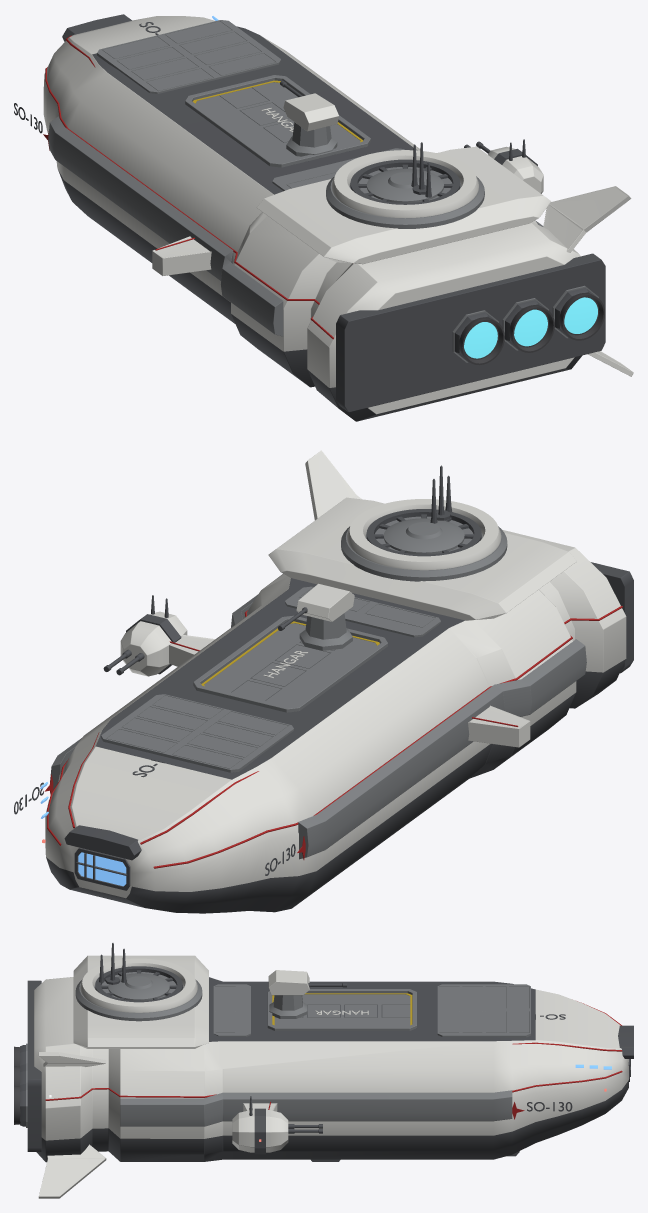
File: exterior.glb
3 renders of one model, top to bottom at view 1: azimuth 30°, elevation 25°; view 2: azimuth 150°, elevation 25°; view 3: azimuth 270°, elevation 25°, orthographic. The views are drawn at different scales.
Visible parts, largest first — view 1: HL_SO3_hull, HL_SO3_engineMount, HL_SO3_sternBlock, HL_SO3_armourBelt, HL_SO3_deckPlate, HL_SO3_hangarDoor, HL_SO3_gravRing, HL_SO3_finUpper, HL_SO3_ringBase, HL_SO3_hangarCoaming, HL_SO3_ringHub, HL_SO3_pylon (+13 smaller); view 2: HL_SO3_hull, HL_SO3_sternBlock, HL_SO3_armourBelt, HL_SO3_deckPlate, HL_SO3_hangarDoor, HL_SO3_gravRing, HL_SO3_pylon, HL_SO3_ringBase, HL_SO3_hangarCoaming, HL_SO3_deckPlate.001, HL_SO3_pod, HL_SO3_ringHub (+9 smaller); view 3: HL_SO3_hull, HL_SO3_armourBelt, HL_SO3_sternBlock, HL_SO3_deckPlate, HL_SO3_hangarDoor, HL_SO3_gravRing, HL_SO3_finLower, HL_SO3_deckPlate.001, HL_SO3_engineMount, HL_SO3_pod, HL_SO3_hangarCoaming, HL_SO3_ringBase (+8 smaller).
Part boxes in pixels (x1,y1,x2,y2): HL_SO3_hull: (43, 16, 582, 421); HL_SO3_engineMount: (336, 253, 605, 412); HL_SO3_sternBlock: (256, 146, 550, 264); HL_SO3_armourBelt: (48, 116, 543, 336); HL_SO3_deckPlate: (97, 20, 281, 93); HL_SO3_hangarDoor: (195, 82, 360, 161); HL_SO3_gravRing: (331, 150, 478, 218); HL_SO3_finUpper: (543, 186, 631, 252); HL_SO3_ringBase: (326, 167, 484, 228); HL_SO3_hangarCoaming: (185, 75, 370, 167); HL_SO3_ringHub: (367, 168, 443, 202); HL_SO3_pylon: (152, 236, 211, 275); HL_SO3_hull: (45, 529, 626, 913); HL_SO3_sternBlock: (268, 497, 576, 620); HL_SO3_armourBelt: (50, 594, 586, 859); HL_SO3_deckPlate: (101, 694, 293, 772); HL_SO3_hangarDoor: (204, 623, 376, 706); HL_SO3_gravRing: (347, 499, 501, 570); HL_SO3_pylon: (169, 635, 530, 747); HL_SO3_ringBase: (341, 516, 507, 581); HL_SO3_hangarCoaming: (193, 615, 387, 712); HL_SO3_deckPlate.001: (285, 586, 440, 637); HL_SO3_pod: (120, 611, 187, 676); HL_SO3_ringHub: (383, 518, 464, 554); HL_SO3_hull: (34, 977, 628, 1162); HL_SO3_armourBelt: (120, 1090, 512, 1126); HL_SO3_sternBlock: (73, 955, 208, 1048); HL_SO3_deckPlate: (437, 984, 530, 1037); HL_SO3_hangarDoor: (274, 994, 410, 1026); HL_SO3_gravRing: (80, 958, 197, 1012); HL_SO3_finLower: (38, 1144, 106, 1198); HL_SO3_deckPlate.001: (213, 984, 250, 1036); HL_SO3_engineMount: (27, 980, 41, 1151); HL_SO3_pod: (232, 1110, 288, 1152); HL_SO3_hangarCoaming: (267, 989, 416, 1030); HL_SO3_ringBase: (75, 972, 202, 1021).
Bounding box in the file's own units: 74.95 × 45.52 × 133.
